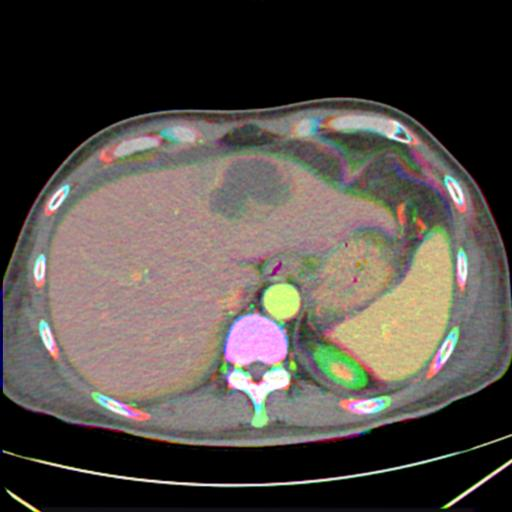Tumor: (209, 157, 289, 217)
